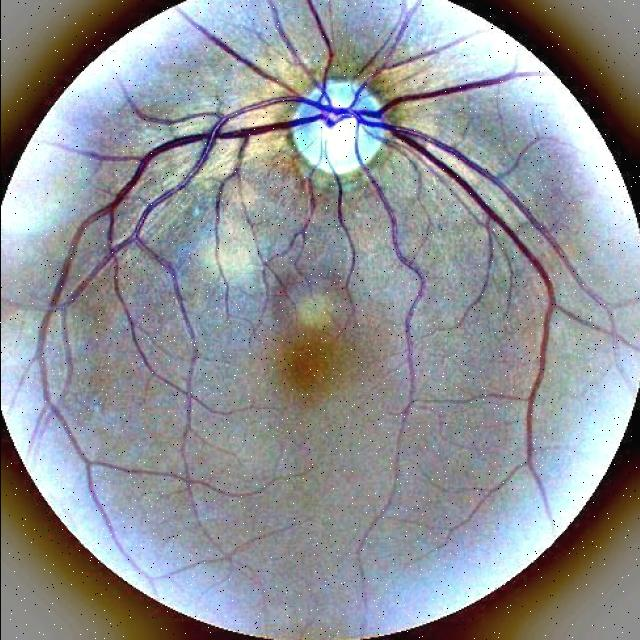Macula: (279, 288, 361, 402)
Nerves: (364, 115, 569, 325), (116, 87, 359, 169), (365, 70, 534, 112)
Optic Disk: (282, 69, 399, 193)
